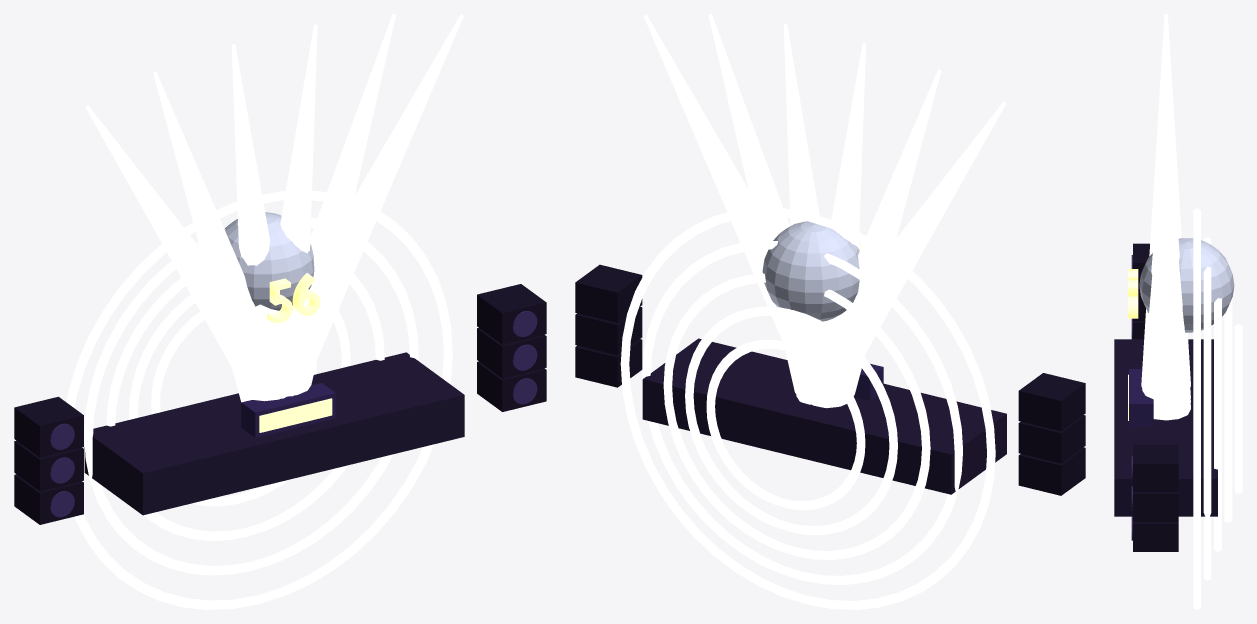
Rendered from stage.glb.
The picture shows the model from 3 angles, left to right: view 1: azimuth 30°, elevation 25°; view 2: azimuth 150°, elevation 25°; view 3: azimuth 270°, elevation 25°; orthographic projection. The views are drawn at different scales.
Visible parts, largest first — view 1: deck, led0, beam0, beam5, led1, beam4, beam1, beam2, beam3, led2, orb, Cube.002 (+10 smaller); view 2: deck, led0, led1, led2, orb, beam0, led3, beam5, beam1, beam4, led4, beam2 (+7 smaller); view 3: deck, beam5, orb, led0, led1, beam4, Cube.005, led3, led2, led4, Cube.003, Cube.004 (+9 smaller).
Part boxes in pixels (x1,y1,x2,y2): deck: (84, 352, 464, 515); led0: (66, 190, 452, 609); beam0: (85, 105, 288, 398); beam5: (286, 14, 463, 396); led1: (84, 218, 418, 575); beam4: (295, 14, 395, 395); beam1: (153, 72, 280, 402); beam2: (231, 44, 285, 374); beam3: (280, 24, 317, 396); led2: (106, 274, 384, 540); orb: (224, 212, 314, 310); Cube.002: (14, 396, 83, 457); deck: (642, 338, 1006, 494); led0: (620, 207, 995, 609); led1: (642, 240, 962, 584); led2: (663, 273, 930, 559); orb: (762, 221, 859, 321); beam0: (812, 101, 1006, 383); led3: (685, 306, 897, 535); beam5: (643, 14, 813, 380); beam1: (812, 69, 941, 404); beam4: (708, 14, 812, 395); led4: (706, 339, 865, 510); beam2: (812, 43, 865, 408); deck: (1114, 339, 1217, 516); beam5: (1141, 176, 1190, 388); orb: (1139, 238, 1234, 332); led0: (1193, 208, 1200, 609); led1: (1203, 237, 1211, 580); beam4: (1142, 131, 1190, 419); Cube.005: (1133, 444, 1178, 491); led3: (1224, 298, 1232, 522); led2: (1214, 298, 1221, 551); led4: (1234, 324, 1242, 493); Cube.003: (1133, 522, 1178, 551); Cube.004: (1133, 492, 1178, 521).
Size of the model in its own units: 25.2 by 27.68 by 6.19.
